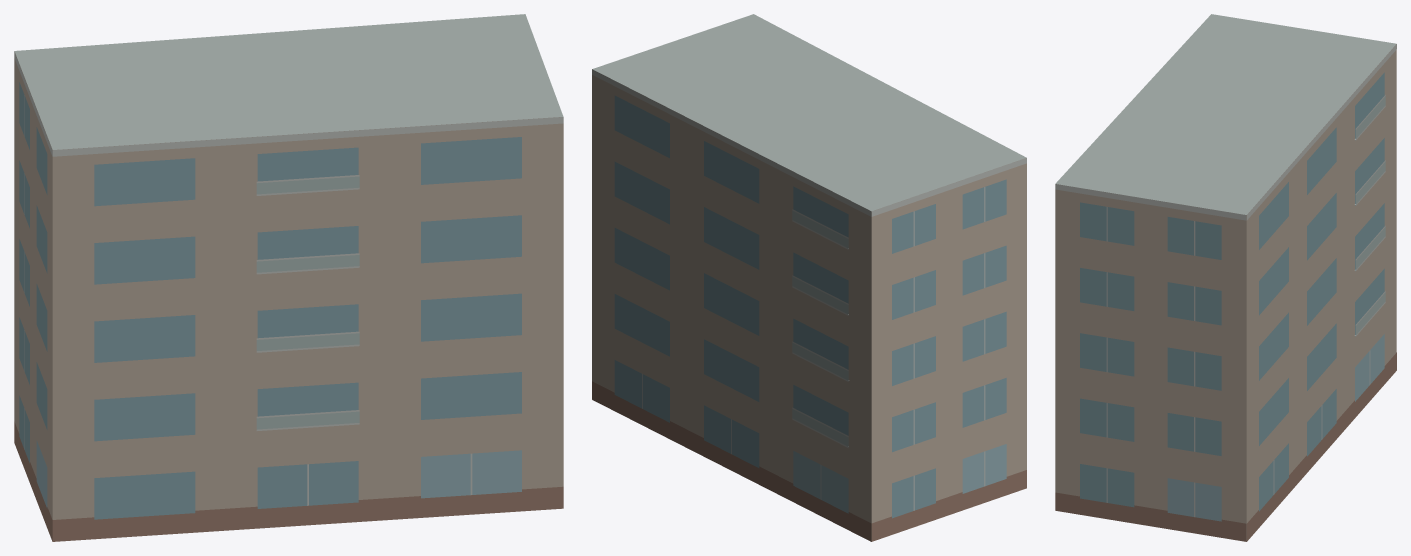
Rendered from survey-upis-32941023.glb.
3 renders of one model, left to right at view 1: azimuth 30°, elevation 25°; view 2: azimuth 150°, elevation 25°; view 3: azimuth 270°, elevation 25°, orthographic. The views are drawn at different scales.
Visible parts, largest first — view 1: survey-upis-32941023.tmp; view 2: survey-upis-32941023.tmp; view 3: survey-upis-32941023.tmp.
Part boxes in pixels (x1=…): survey-upis-32941023.tmp: x1=14, y1=14, x2=563, y2=541; survey-upis-32941023.tmp: x1=592, y1=14, x2=1026, y2=541; survey-upis-32941023.tmp: x1=1055, y1=14, x2=1396, y2=541.
Bounding box in the file's own units: 18.88 × 14.3 × 13.56.
